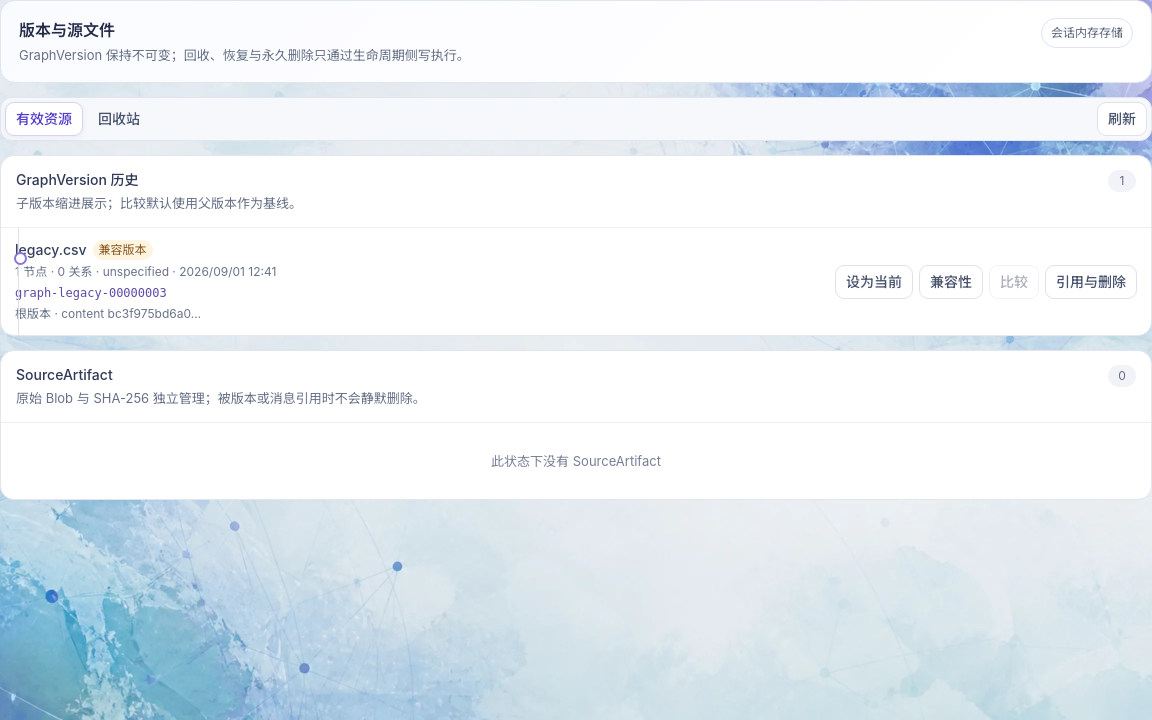
VersionLifecyclePanel › explains why a legacy untyped version has a single node color
Expected: the text "兼容版本" is shown, x1=93 y1=240 x2=153 y2=260
Click the button with aria-label "检查兼容性 legacy.csv" at (951, 282), box x1=919 y1=264 x2=983 y2=298
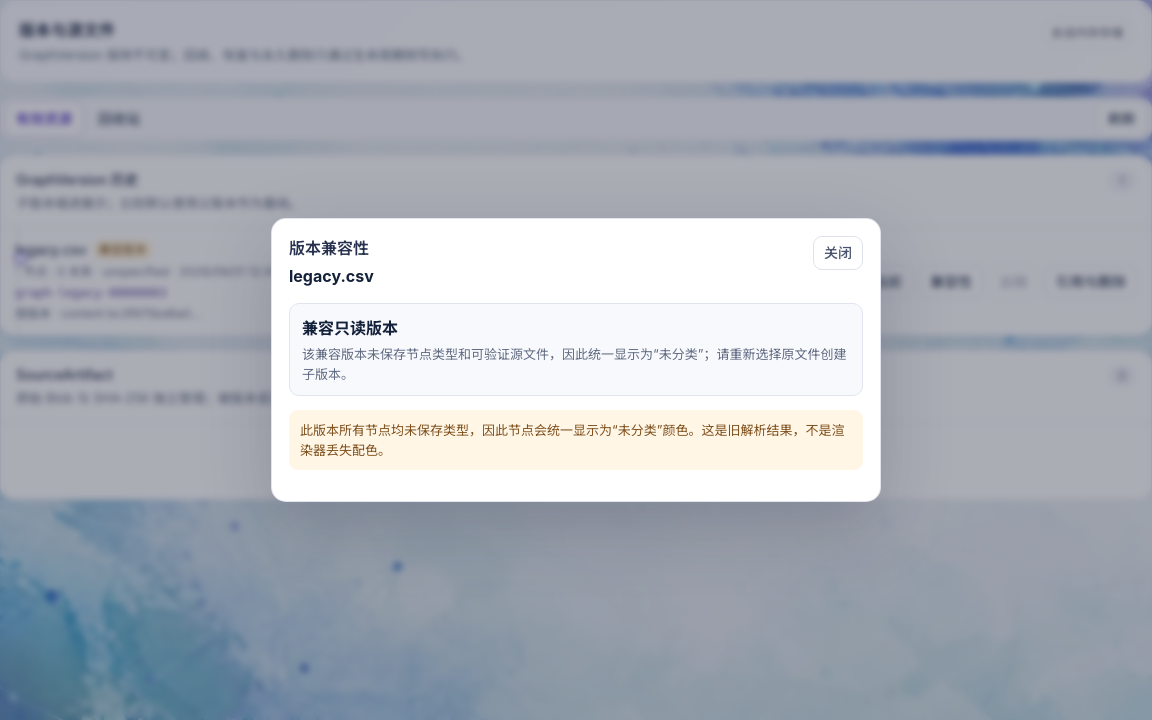
Now the dialog "版本兼容性" shows "兼容只读版本", box x1=302 y1=318 x2=398 y2=338
Now the dialog "版本兼容性" shows "所有节点均未保存类型", box x1=300 y1=422 x2=844 y2=458
Now the dialog "版本兼容性" shows "不是渲染器丢失配色", box x1=300 y1=422 x2=844 y2=458
